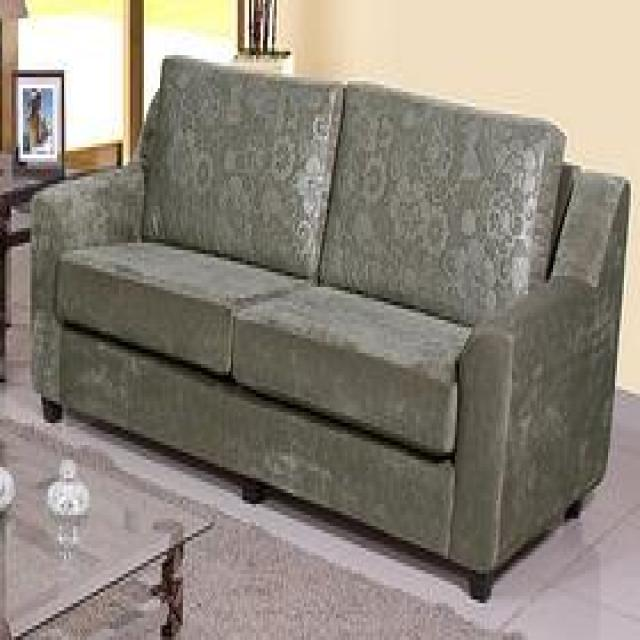sofa: (26, 54, 632, 600)
